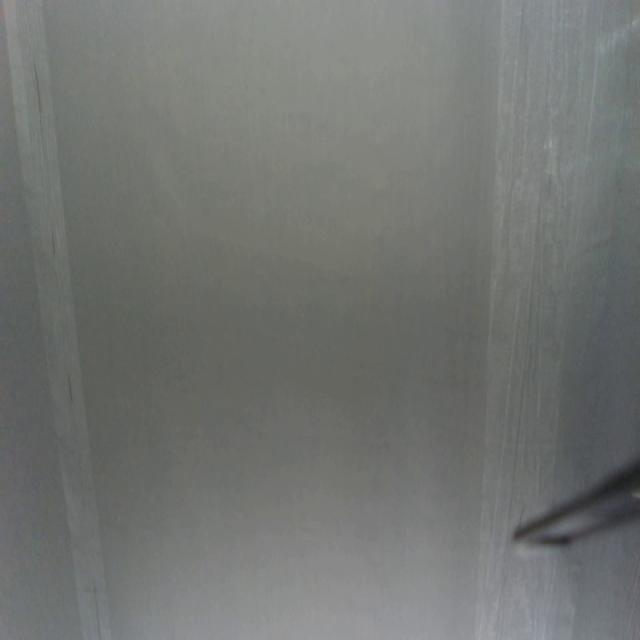crease: (2, 0, 114, 640), (480, 0, 600, 504)
